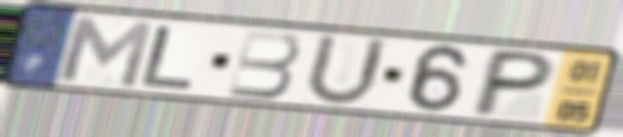6: (404, 42, 474, 116)
B: (225, 28, 304, 101)
L: (136, 23, 199, 92)
M: (55, 13, 157, 91)
P: (464, 46, 560, 119)
U: (300, 31, 392, 109)
